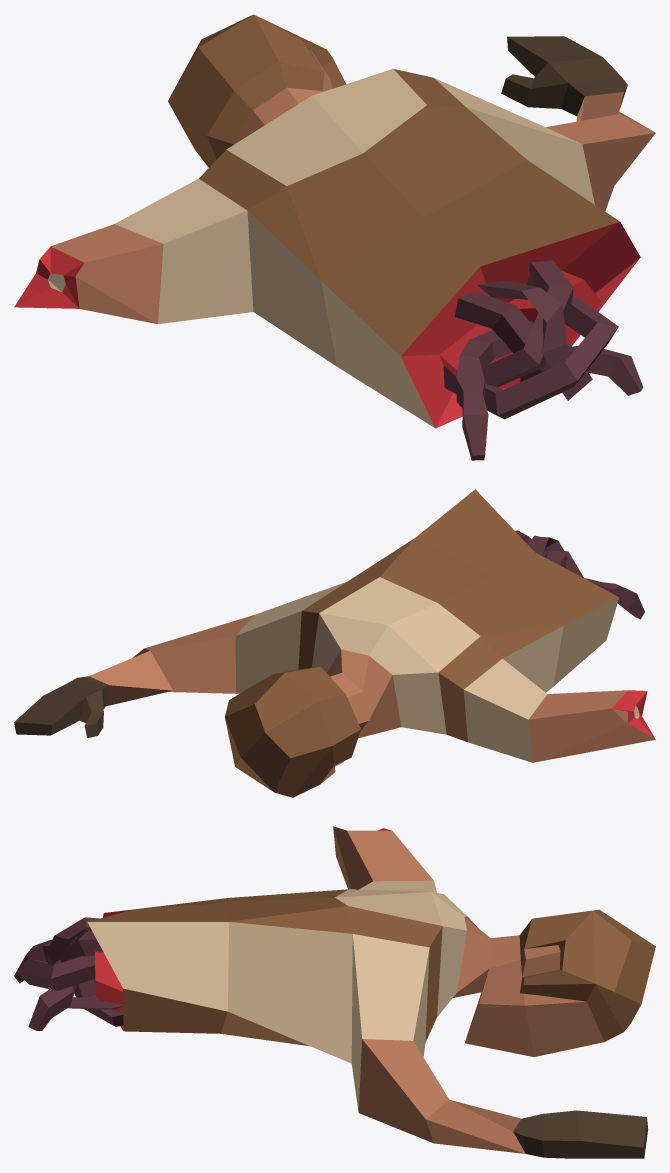
The model's file is apocalypse-man-construction-worker-dead-b.glb.
3 views of the same model, one above another, from view 1: azimuth 30°, elevation 25°; view 2: azimuth 150°, elevation 25°; view 3: azimuth 270°, elevation 25° (orthographic). The views are drawn at different scales.
Parts seen in each view (by area): view 1: man-construction-worker-dead-b; view 2: man-construction-worker-dead-b; view 3: man-construction-worker-dead-b.
Part boxes in pixels (x1,y1,x2,y2): man-construction-worker-dead-b: (14,14,655,460); man-construction-worker-dead-b: (14,489,655,797); man-construction-worker-dead-b: (14,826,655,1158).
Size of the model in its own units: 1.03 by 0.244 by 0.9911.
